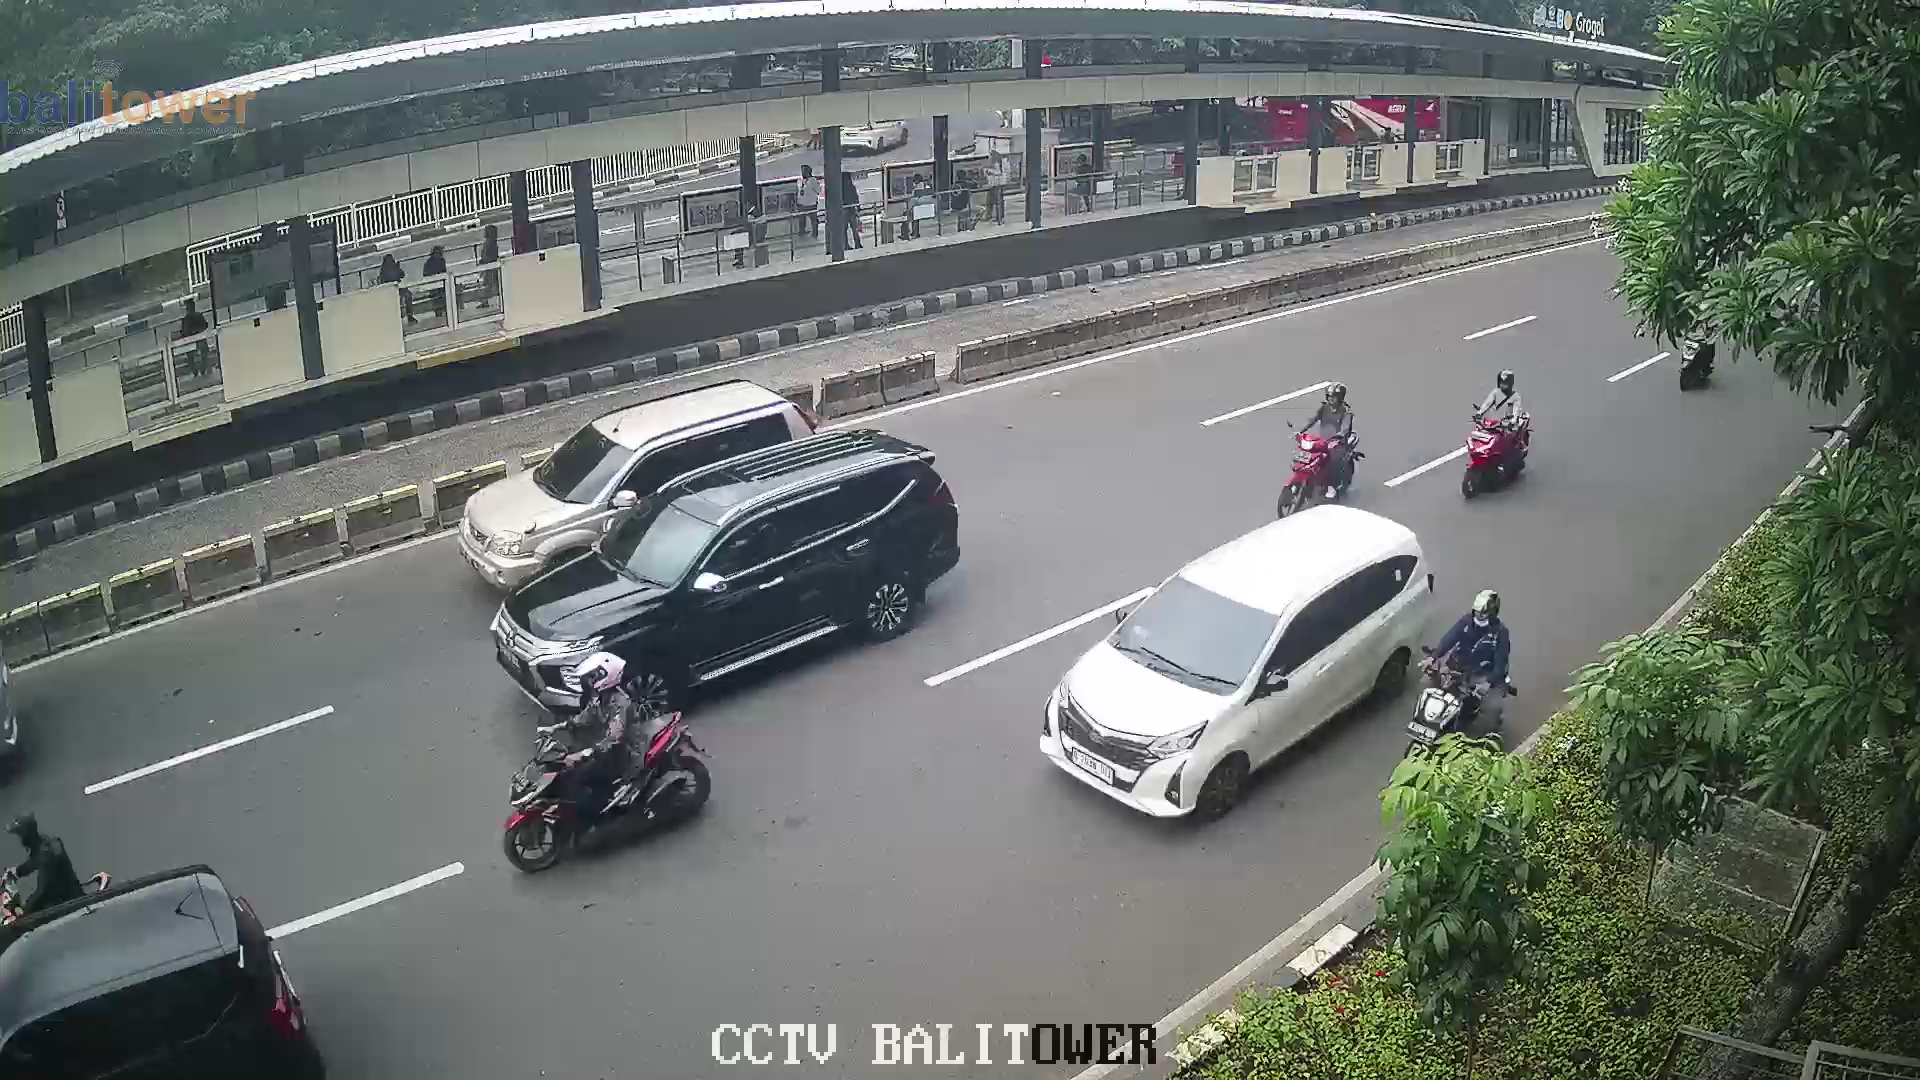full-face helmet: (561, 655, 641, 696)
half-face helmet: (1466, 582, 1515, 633), (1319, 378, 1353, 422), (1496, 367, 1527, 396)
